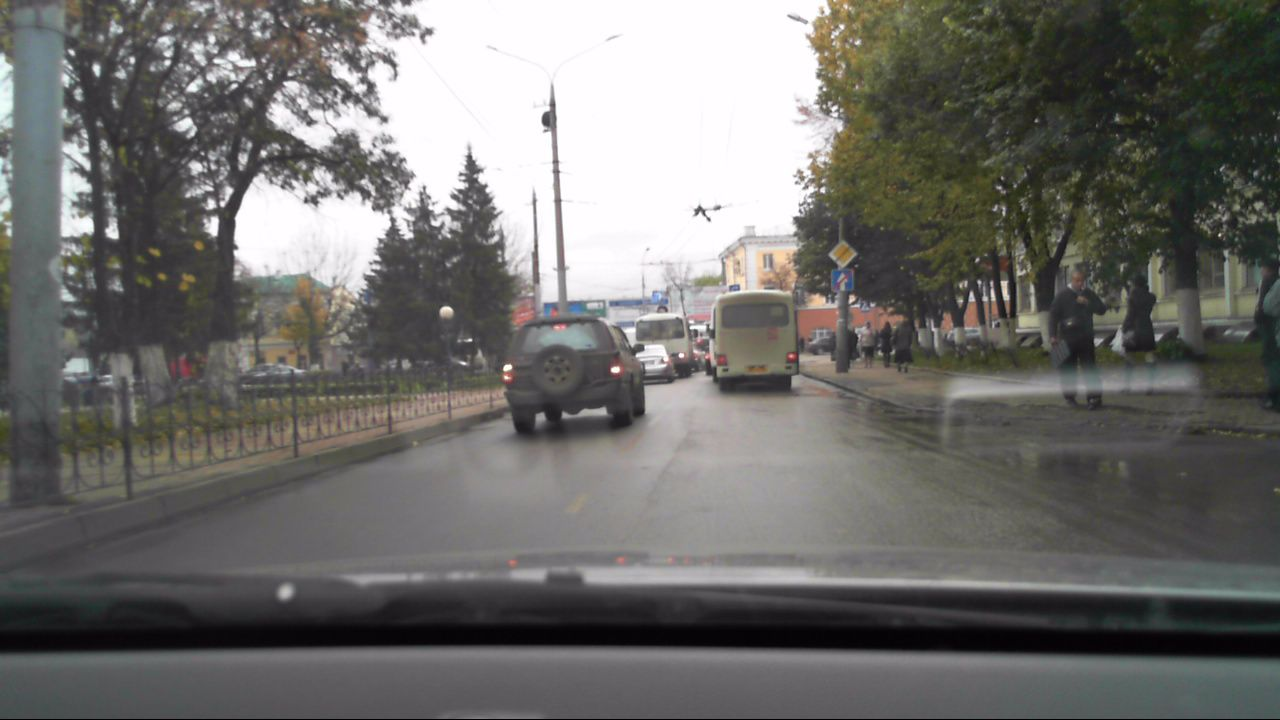main road: (827, 242, 858, 271)
